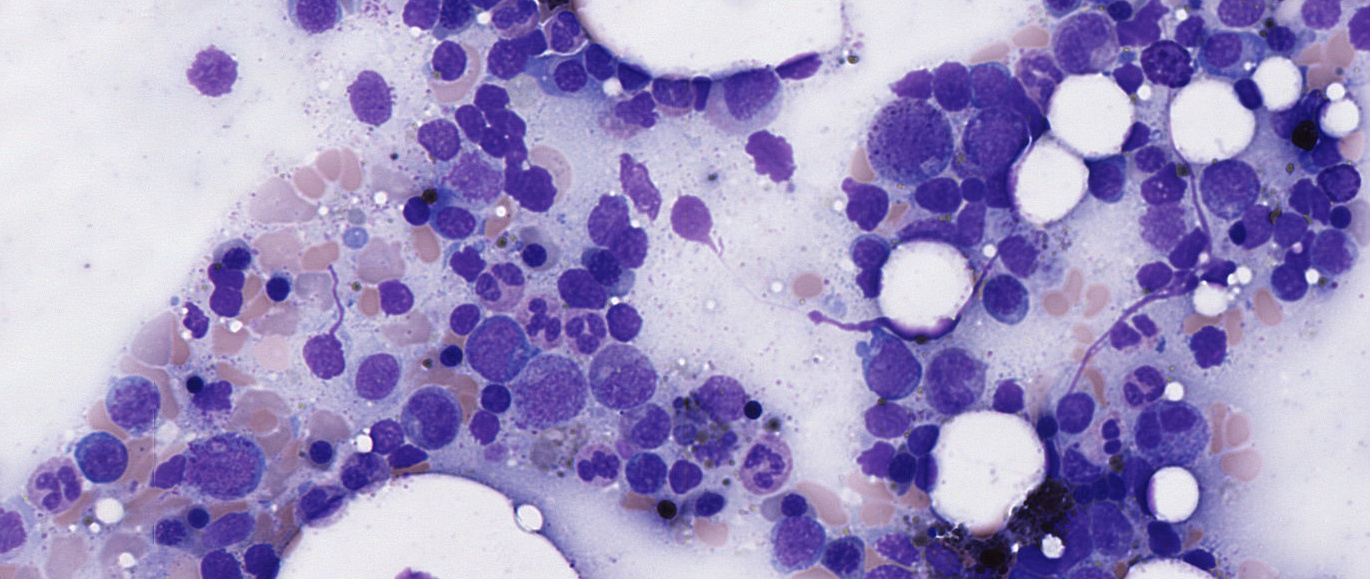objectness: (1317, 157, 1367, 207), (1143, 34, 1193, 84), (1200, 26, 1250, 76), (1306, 227, 1356, 277), (747, 440, 797, 490), (465, 259, 515, 309), (570, 316, 620, 366), (516, 297, 566, 347), (573, 440, 623, 490), (652, 74, 702, 124), (1122, 351, 1172, 401), (539, 7, 589, 57), (337, 444, 387, 494), (28, 460, 78, 510), (1102, 310, 1152, 360), (1204, 161, 1254, 211), (526, 371, 576, 421), (600, 359, 650, 409), (407, 387, 457, 437), (724, 65, 774, 115), (287, 483, 337, 533), (623, 400, 673, 450), (925, 353, 975, 403), (1058, 20, 1108, 70), (866, 342, 916, 392), (470, 321, 520, 371), (971, 116, 1021, 166), (996, 73, 1046, 123), (296, 325, 346, 375), (441, 239, 491, 289), (470, 372, 520, 422), (1013, 96, 1063, 146), (1281, 110, 1331, 160), (379, 433, 429, 483), (193, 42, 243, 92), (459, 398, 509, 448), (101, 378, 151, 428), (1318, 190, 1368, 240), (666, 194, 716, 244), (1298, 127, 1348, 177), (834, 178, 884, 228), (560, 263, 610, 313), (608, 85, 658, 135), (949, 163, 999, 213), (451, 152, 501, 202), (971, 161, 1021, 211), (1228, 69, 1278, 119), (1189, 322, 1239, 372), (1117, 1, 1167, 51), (438, 293, 488, 343), (1278, 229, 1328, 279), (926, 60, 976, 110), (237, 528, 287, 578), (577, 36, 627, 86), (864, 393, 914, 443), (1152, 396, 1202, 446), (1263, 94, 1313, 144), (1130, 410, 1180, 460), (168, 295, 218, 345), (200, 264, 250, 314), (617, 160, 667, 210), (423, 333, 473, 383), (1050, 388, 1100, 438), (374, 268, 424, 318), (602, 295, 652, 345), (1165, 1, 1215, 51), (1231, 199, 1281, 249), (902, 447, 952, 497), (877, 443, 927, 493), (1282, 166, 1332, 216), (592, 203, 642, 253), (362, 410, 412, 460), (997, 229, 1047, 279), (913, 168, 963, 218), (843, 259, 893, 309), (886, 60, 936, 110), (948, 197, 998, 247), (204, 503, 254, 553), (1260, 12, 1310, 62), (853, 433, 903, 483), (1083, 155, 1133, 205), (393, 184, 443, 234), (255, 264, 305, 314), (658, 451, 708, 501), (606, 51, 656, 101), (354, 349, 404, 399), (908, 201, 958, 251), (1263, 202, 1313, 252), (778, 38, 828, 88), (750, 132, 800, 182), (144, 447, 194, 497), (901, 408, 951, 458), (1103, 49, 1153, 99), (845, 225, 895, 275), (1266, 255, 1316, 305), (775, 513, 825, 563), (620, 447, 670, 497), (211, 230, 261, 280), (76, 431, 126, 481), (582, 240, 632, 290), (146, 508, 196, 558), (545, 52, 595, 102), (432, 197, 482, 247), (963, 58, 1013, 108), (508, 228, 558, 278), (685, 479, 735, 529), (774, 480, 824, 530), (171, 492, 221, 542), (292, 424, 342, 474), (982, 268, 1032, 318), (886, 111, 936, 161), (199, 444, 249, 494), (818, 534, 868, 579), (430, 0, 480, 41), (488, 0, 538, 40), (1299, 0, 1349, 40), (197, 540, 247, 579), (289, 0, 339, 38), (391, 0, 441, 37), (1219, 0, 1269, 36), (1095, 0, 1145, 35), (0, 506, 33, 556)
